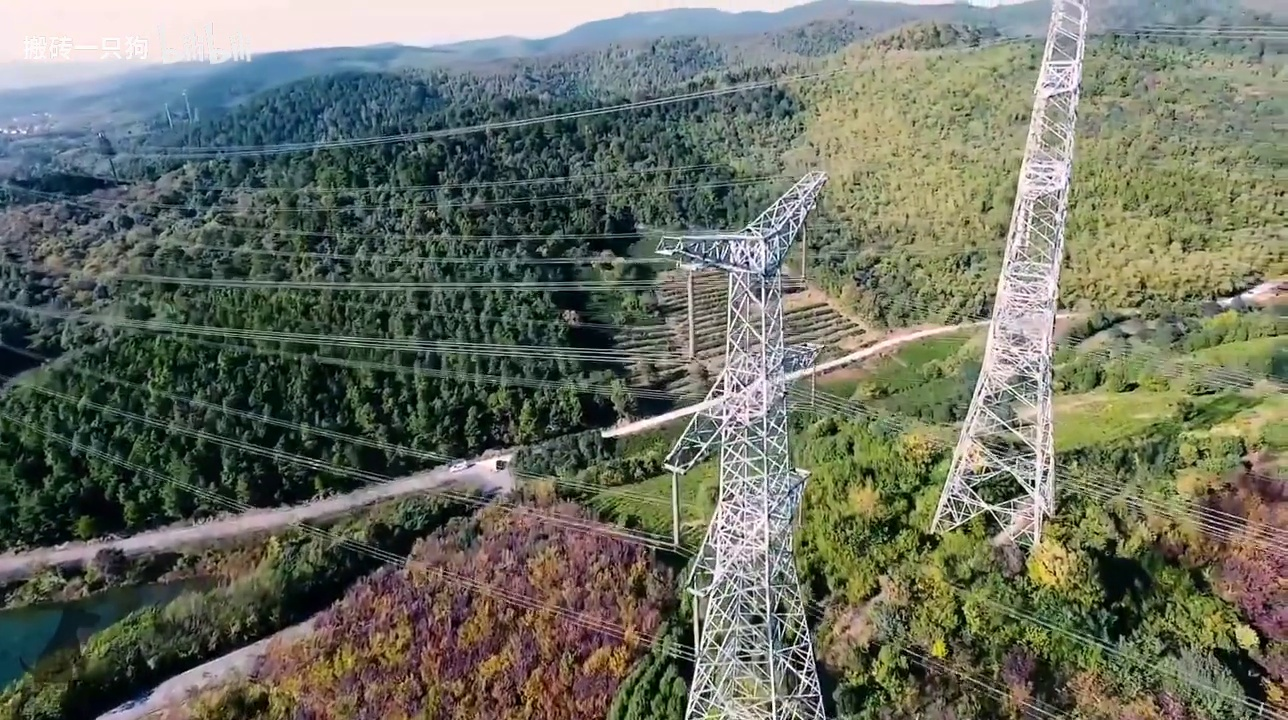tower_body: (624, 149, 859, 720)
tower_foot: (677, 591, 828, 720)
tower_head: (647, 161, 836, 284)
